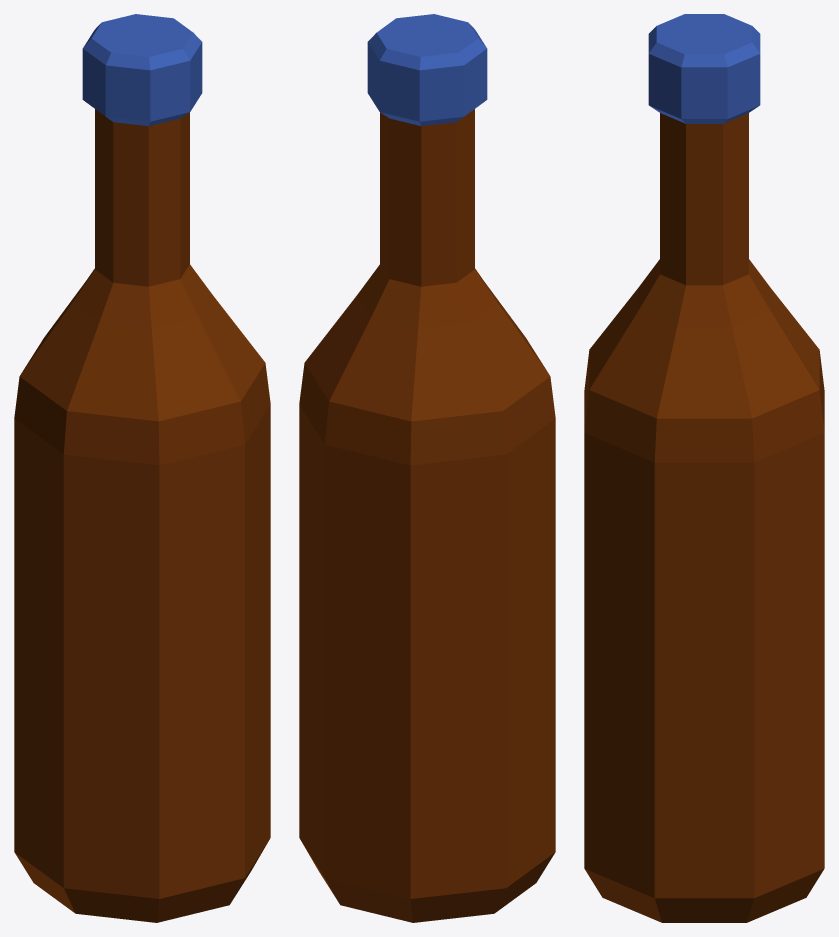
File: SM_Clutter_Bottle_Amber_01.obj
3 views of the same model, side by side, from view 1: azimuth 30°, elevation 25°; view 2: azimuth 150°, elevation 25°; view 3: azimuth 270°, elevation 25° (orthographic).
Visible parts, largest first — view 1: SM_Clutter_Bottle_Amber_01; view 2: SM_Clutter_Bottle_Amber_01; view 3: SM_Clutter_Bottle_Amber_01.
Part boxes in pixels (x1,y1,x2,y2): SM_Clutter_Bottle_Amber_01: [14, 14, 270, 922]; SM_Clutter_Bottle_Amber_01: [299, 14, 555, 922]; SM_Clutter_Bottle_Amber_01: [584, 14, 824, 922].
Bounding box in the file's own units: 0.0674 × 0.262 × 0.0674.
Materials: 1 (1 with a texture image).
